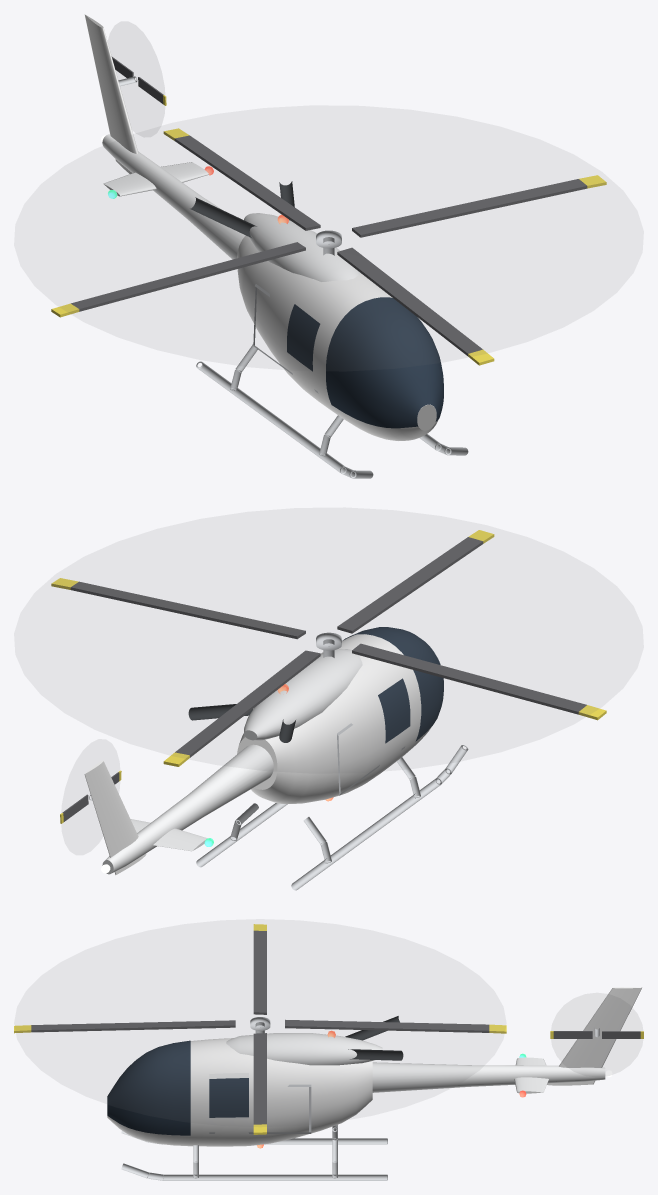
The picture shows the model from 3 angles, top to bottom: view 1: azimuth 30°, elevation 25°; view 2: azimuth 150°, elevation 25°; view 3: azimuth 270°, elevation 25°; orthographic projection. The views are drawn at different scales.
Visible parts, largest first — view 1: airframe, rotor; view 2: airframe, rotor; view 3: airframe, rotor, tail.
Part boxes in pixels (bbox=[...]): airframe: bbox=[84, 14, 468, 478]; rotor: bbox=[51, 128, 606, 365]; airframe: bbox=[84, 627, 468, 890]; rotor: bbox=[51, 530, 606, 766]; airframe: bbox=[107, 987, 641, 1180]; rotor: bbox=[14, 924, 506, 1134]; tail: bbox=[550, 1031, 643, 1038].
Bounding box in the file's own units: 10.8 × 4.32 × 13.81.
